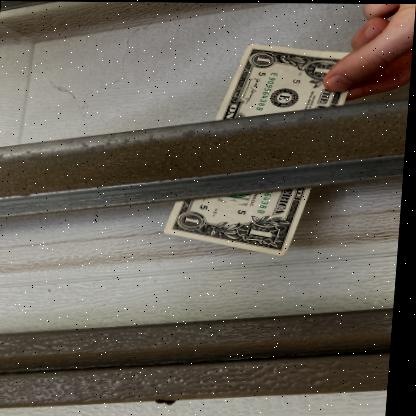one-front: (160, 42, 363, 254)
